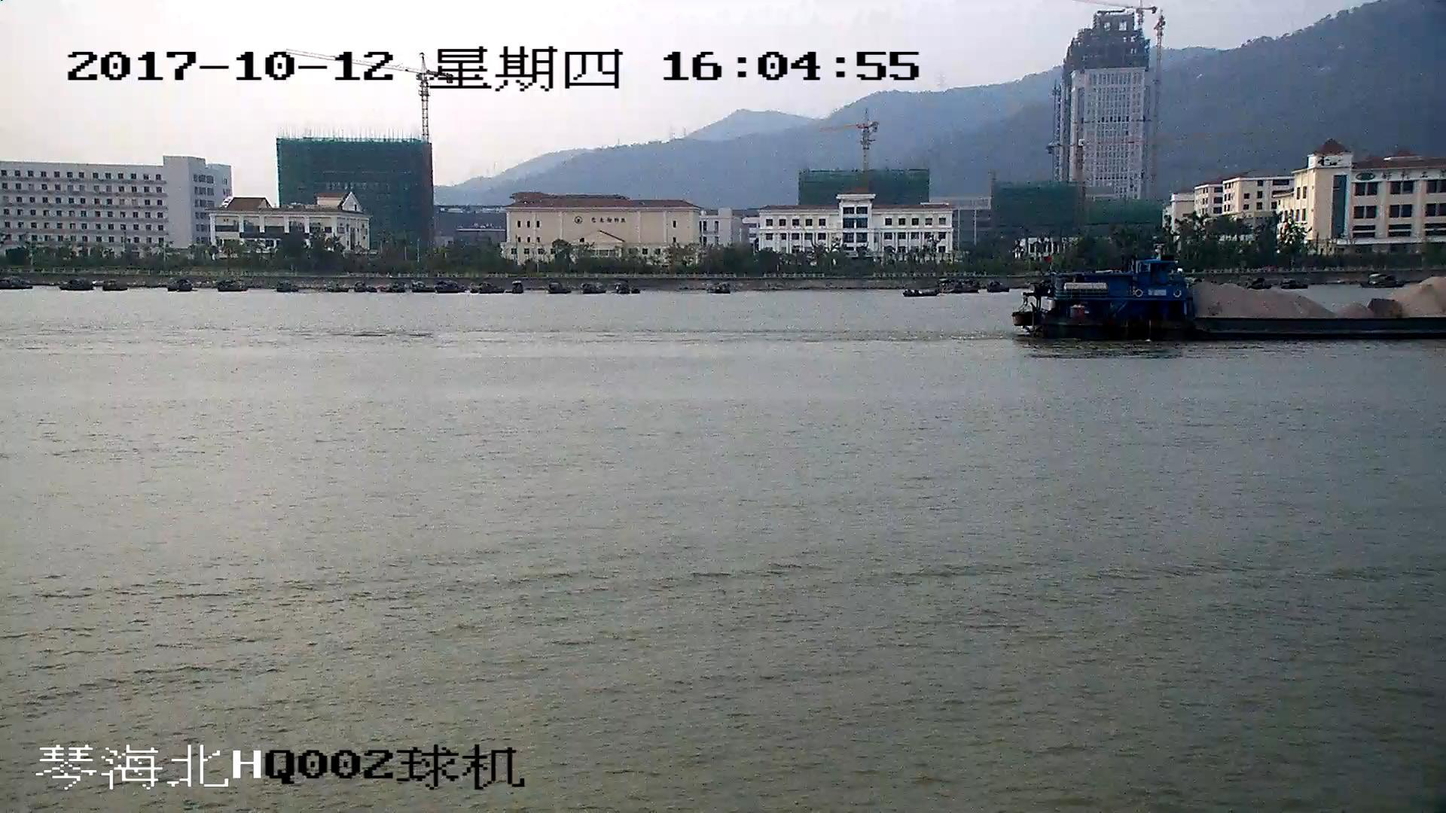ore carrier: (1013, 250, 1445, 338)
